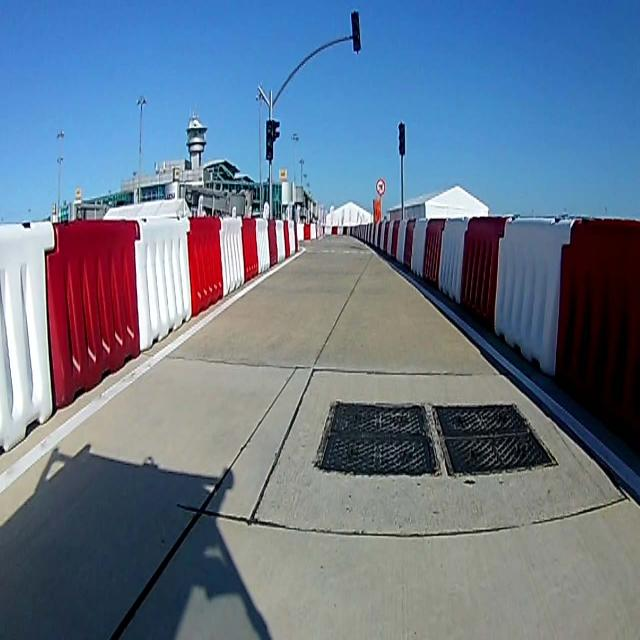soladonulmez: (376, 177, 386, 196)
